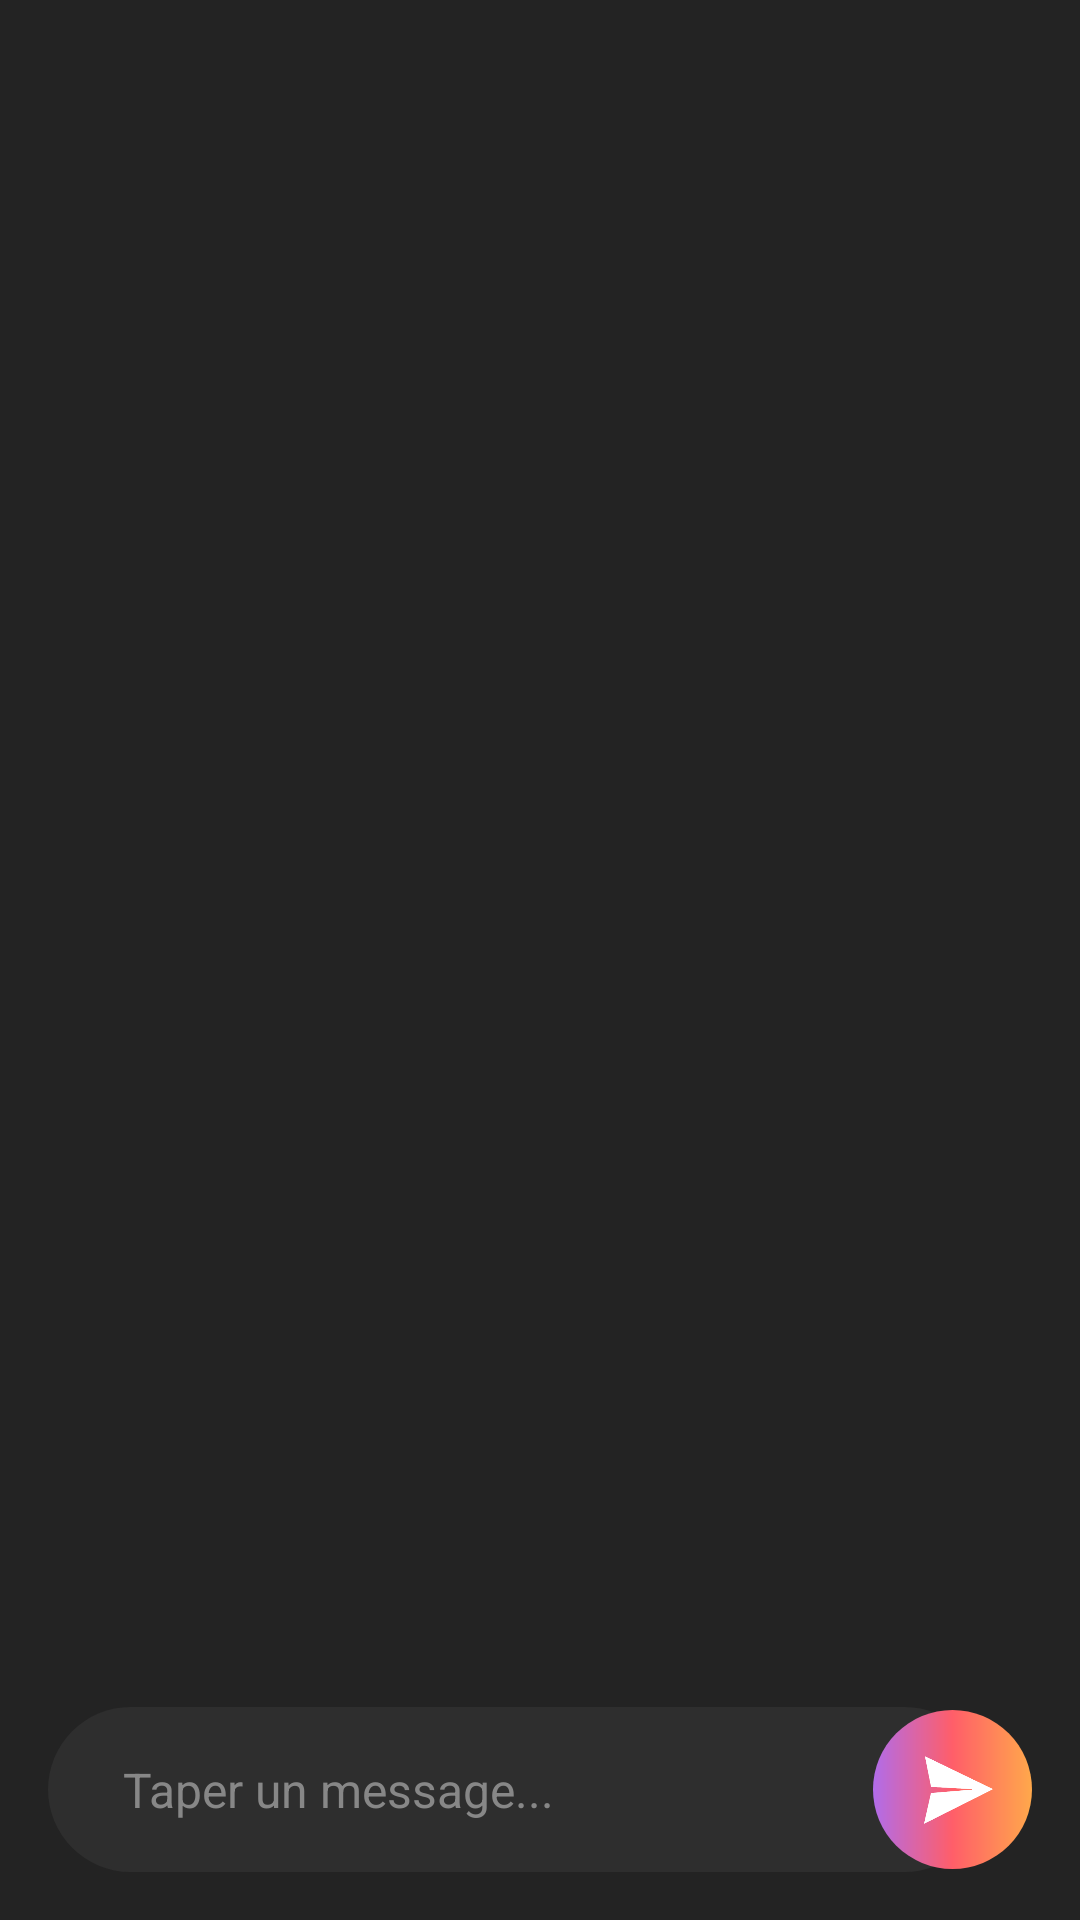

Screen size 1080x1920. Icon name, then its center in pixels as (x,y):
send: (958,1790)
